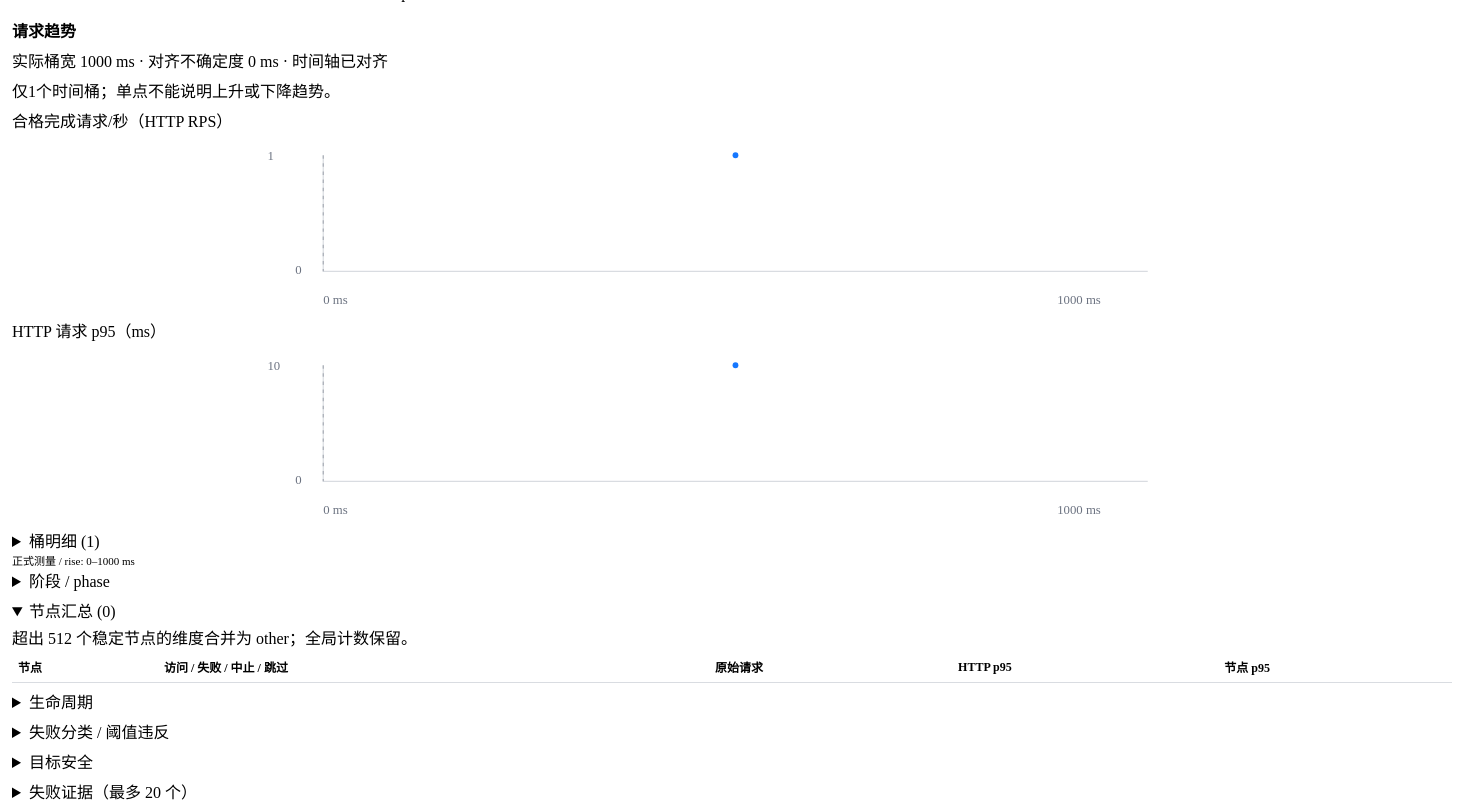
Test: stress workbench report › T7 R1 localizes real VU lifecycle roles and state while preserving business identifiers
The width and height of the screenshot is (1464, 803).
(page scrolled)
Click the heading "生命周期": (61,702) [29, 694, 93, 711]
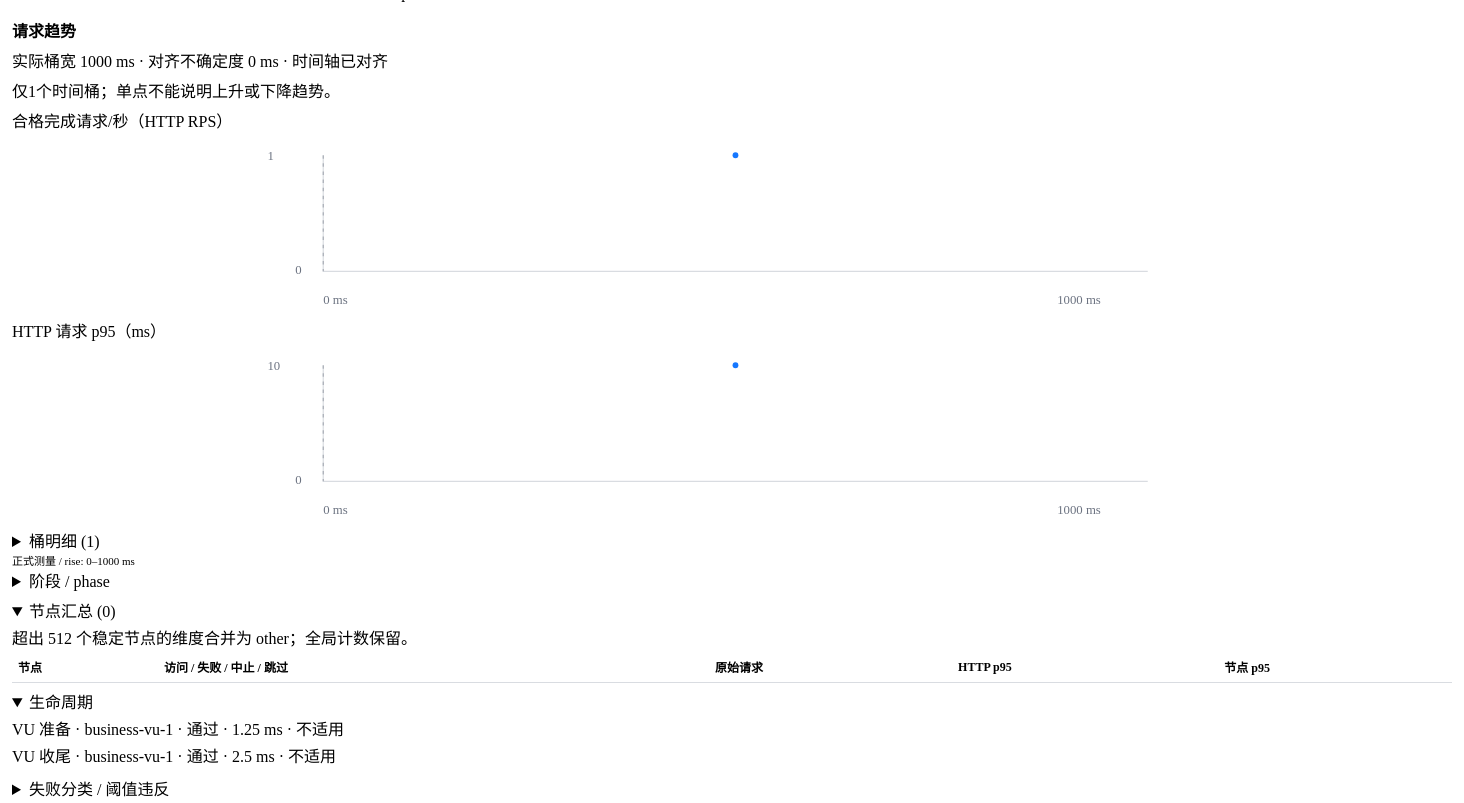
Expected: the element that starts with "生命周期" shows "VU 准备", [12, 721, 344, 738]
Expected: the element that starts with "生命周期" shows "VU 收尾", [12, 748, 336, 765]
Expected: the element that starts with "生命周期" shows "通过", [12, 721, 344, 738]
